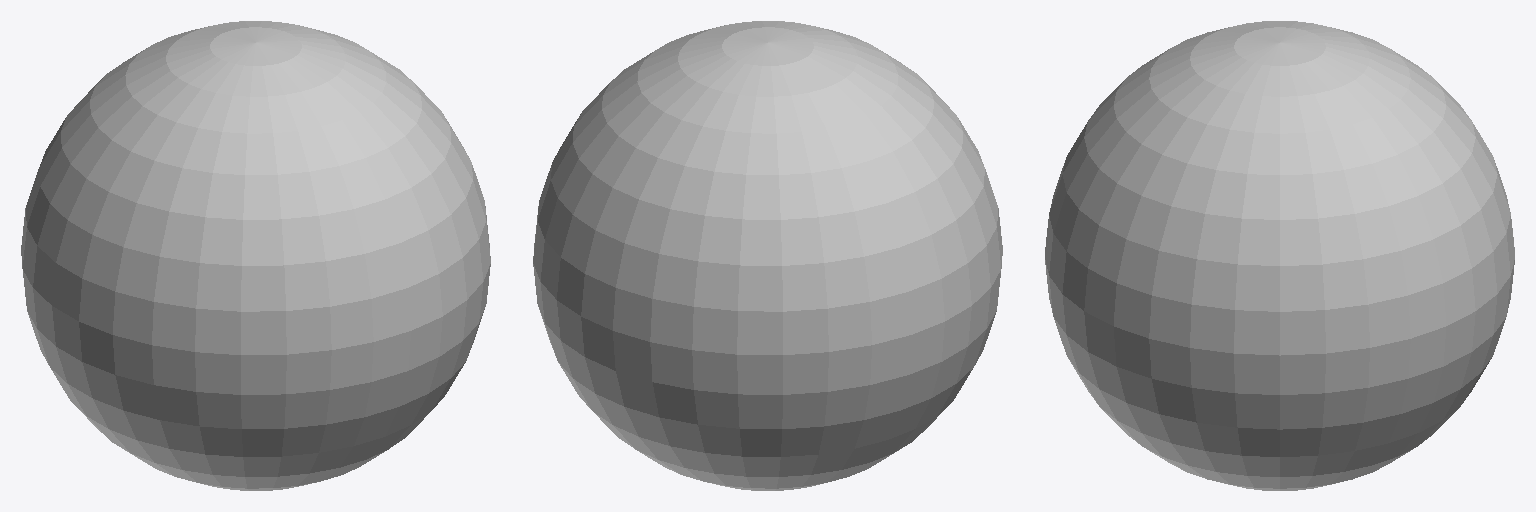
Rendered from 360Pic_2.obj.
The picture shows the model from 3 angles: view 1: azimuth 30°, elevation 25°; view 2: azimuth 150°, elevation 25°; view 3: azimuth 270°, elevation 25°; orthographic projection.
Parts seen in each view (by area): view 1: Sphere.001, Sphere; view 2: Sphere.001, Sphere; view 3: Sphere.001, Sphere.
Part boxes in pixels (left/top/right/bottom): Sphere.001: left=21, top=27, right=490, bottom=490; Sphere: left=21, top=21, right=489, bottom=490; Sphere.001: left=533, top=21, right=1001, bottom=490; Sphere: left=533, top=21, right=1002, bottom=490; Sphere.001: left=1045, top=21, right=1514, bottom=490; Sphere: left=1045, top=21, right=1514, bottom=490.
Bounding box in the file's own units: 2 × 2 × 2.